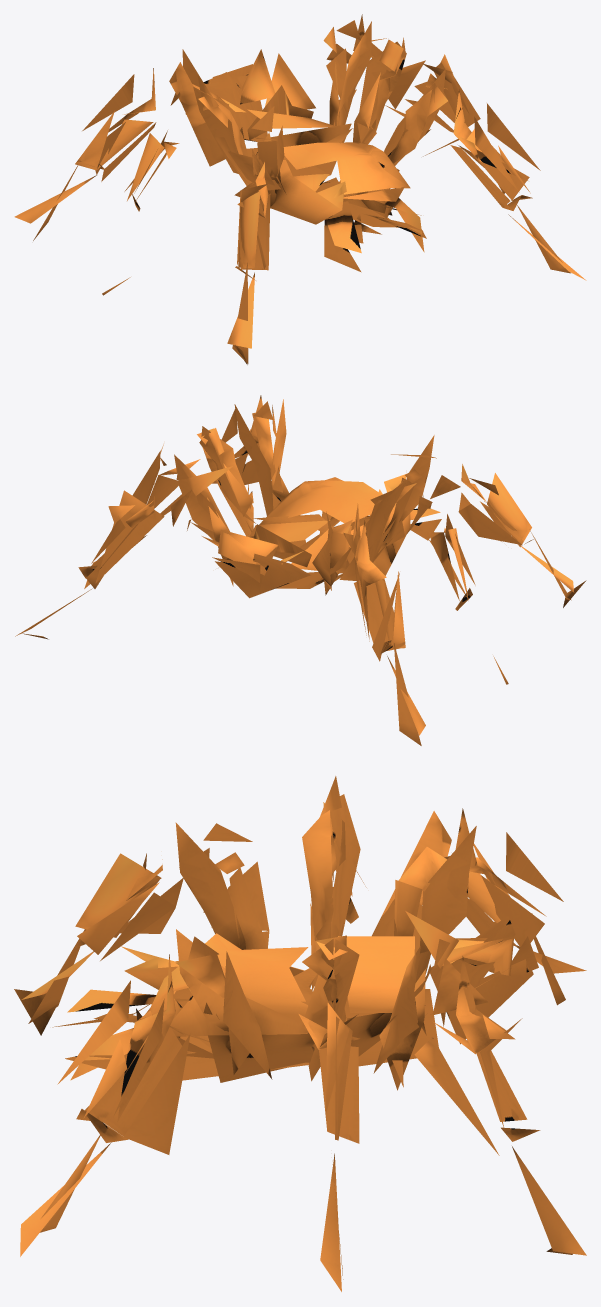
The model's file is spider_low.glb.
The picture shows the model from 3 angles, top to bottom: view 1: azimuth 30°, elevation 25°; view 2: azimuth 150°, elevation 25°; view 3: azimuth 270°, elevation 25°; orthographic projection. The views are drawn at different scales.
Visible parts, largest first — view 1: Cube.005; view 2: Cube.005; view 3: Cube.005.
Boxes of the visible parts, box(x1,y1,x2,y2) form: Cube.005: box(14, 14, 586, 364); Cube.005: box(15, 395, 586, 745); Cube.005: box(14, 776, 586, 1291).
Size of the model in its own units: 5.19 by 2.42 by 4.24.
Materials: 1 (1 with a texture image).
